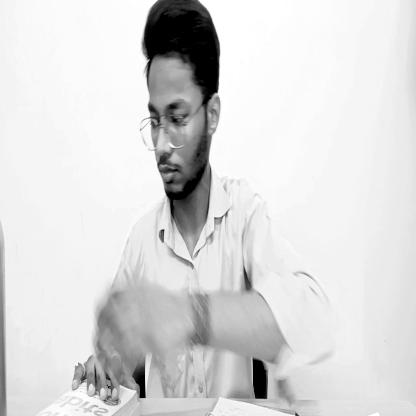Distracted: (141, 3, 224, 210)
